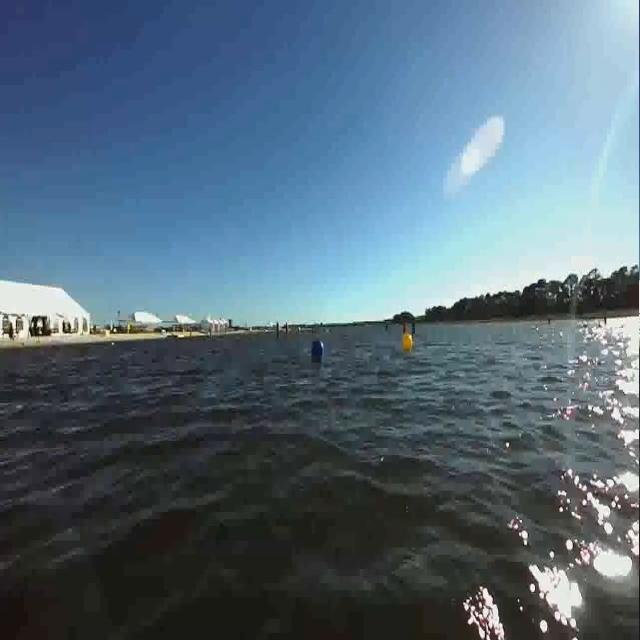blue-buoy: (312, 340, 324, 360)
yellow-buoy: (404, 333, 415, 352)
